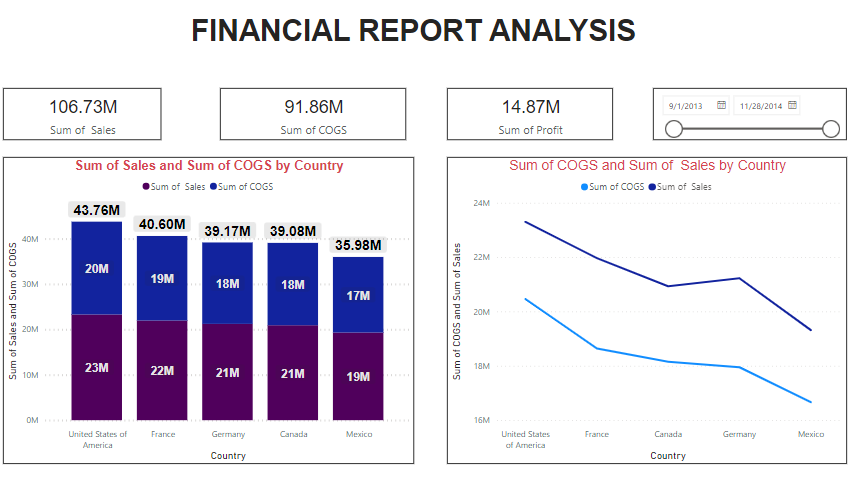

The page's visual inventory and layout, read from the dashboard file:
{"tool":"powerbi","page":{"name":"Financial report ","canvas":[1280,720],"ordinal":0},"visuals":[{"type":"card","fields":{"Values":["Sum(financials. Sales)"]},"box":[28.8,144,227.5,74.9],"z":0},{"type":"card","fields":{"Values":["Sum(financials.COGS)"]},"box":[341.3,144,267.8,74.9],"z":1},{"type":"columnChart","fields":{"Category":["financials.Country"],"Y":["Sum(financials. Sales)","Sum(financials.COGS)"]},"box":[28.8,243.4,591.8,442.1],"z":3},{"type":"card","fields":{"Values":["Sum(financials.Profit)"]},"box":[668.2,144,239,74.9],"z":4},{"type":"slicer","fields":{"Values":["financials.Date"]},"box":[964.8,144,279.4,74.9],"z":5},{"type":"textbox","box":[99.4,31.7,1041.1,63.4],"z":6},{"type":"lineChart","fields":{"Category":["financials.Country"],"Y":["Sum(financials.COGS)","Sum(financials. Sales)"]},"box":[668.2,243.4,576,442.1],"z":7}]}

Visuals, with their boxes in screenshot pixels (x1, y1, x2, y2), scaled from the page's 1280x720 canvas onto the 855x482 screenshot:
card - Sum(financials. Sales): rect(19, 96, 171, 147)
card - Sum(financials.COGS): rect(228, 96, 407, 147)
columnChart - financials.Country x Sum(financials. Sales): rect(19, 163, 415, 459)
card - Sum(financials.Profit): rect(446, 96, 606, 147)
slicer - financials.Date: rect(644, 96, 831, 147)
textbox: rect(66, 21, 762, 64)
lineChart - financials.Country x Sum(financials.COGS): rect(446, 163, 831, 459)
